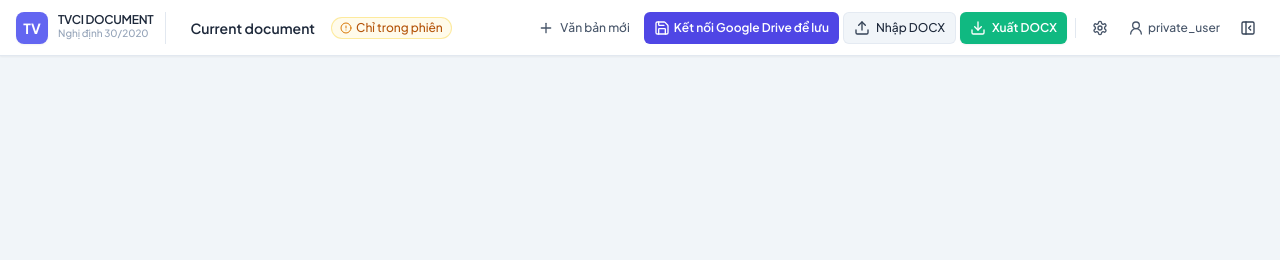
privacy-correct header storage actions › shows the account identity and provides account and role-appropriate admin links
Click the button "private_user" at (1174, 28), box [1120,12,1228,44]
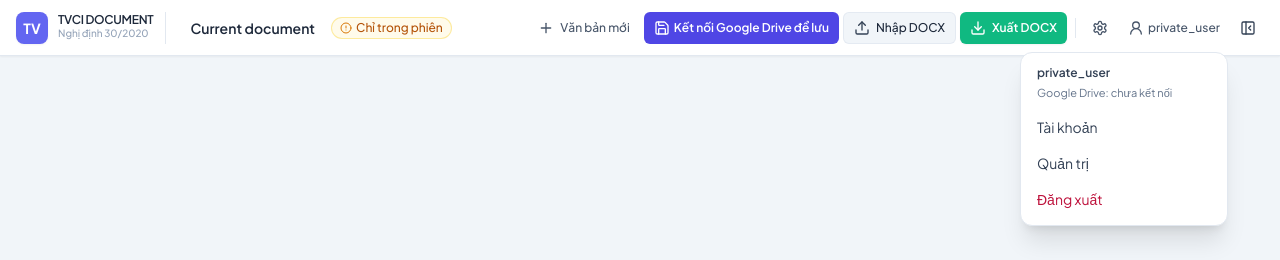
Expected: the menu item "Đăng xuất" is shown, [1029,181,1219,217]
